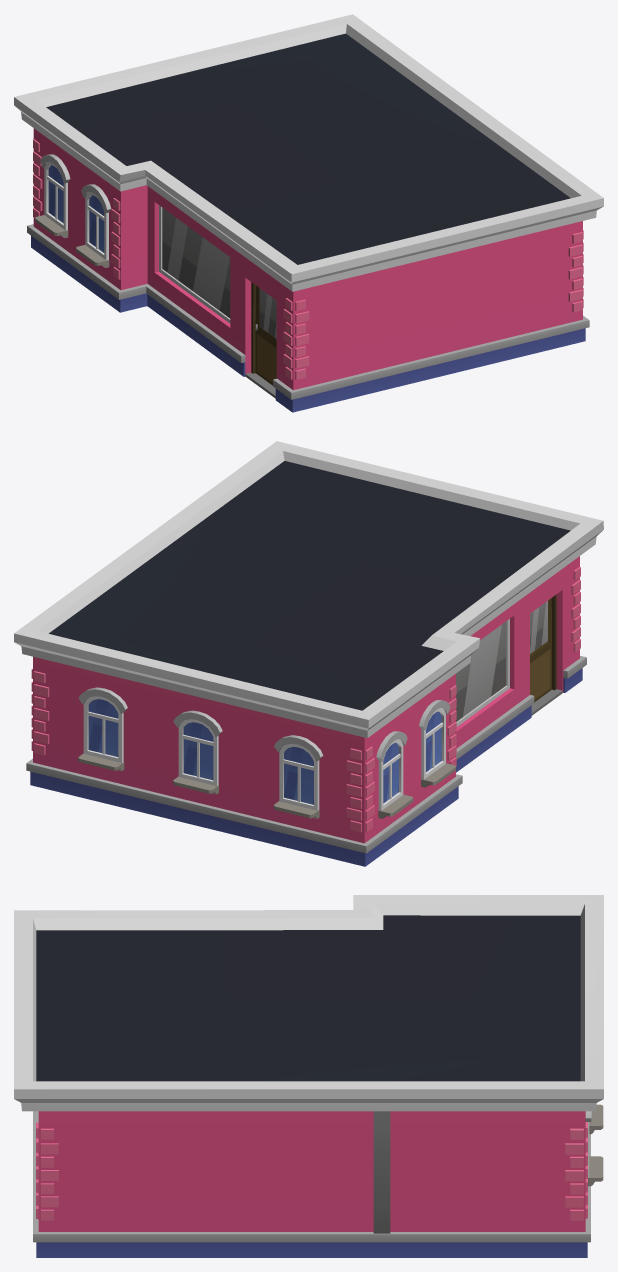
The model's file is Building_1_1_C.fbx.
3 views of the same model, one above another, from view 1: azimuth 30°, elevation 25°; view 2: azimuth 150°, elevation 25°; view 3: azimuth 270°, elevation 25° (orthographic). The views are drawn at different scales.
Parts seen in each view (by area): view 1: Building_1_1_C; view 2: Building_1_1_C; view 3: Building_1_1_C.
Part boxes in pixels (x1,y1,x2,y2): Building_1_1_C: (14, 14, 603, 412); Building_1_1_C: (14, 441, 603, 866); Building_1_1_C: (14, 895, 603, 1257).
Bounding box in the file's own units: 822 × 341 × 1051.
